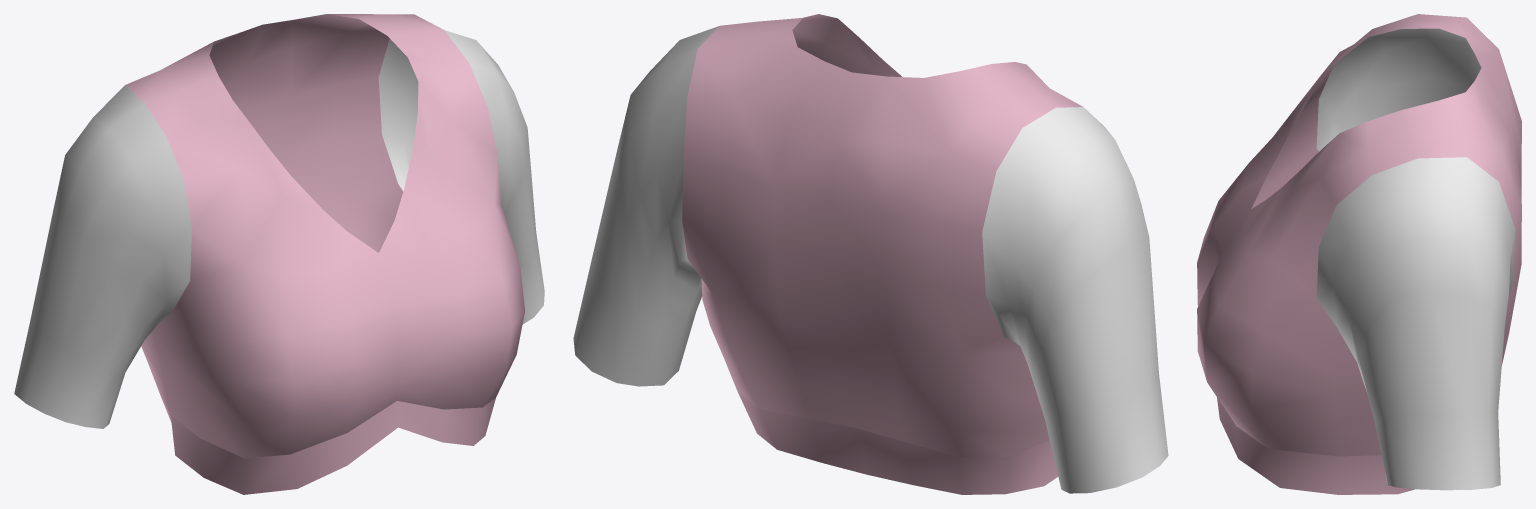
Rendered from blouse_22.glb.
The picture shows the model from 3 angles, left to right: view 1: azimuth 30°, elevation 25°; view 2: azimuth 150°, elevation 25°; view 3: azimuth 270°, elevation 25°; orthographic projection. The views are drawn at different scales.
Visible parts, largest first — view 1: blouse_22; view 2: blouse_22; view 3: blouse_22.
Boxes of the visible parts, box(x1,y1,x2,y2) form: blouse_22: box(14, 14, 544, 494); blouse_22: box(573, 14, 1168, 494); blouse_22: box(1197, 14, 1521, 494).
Bounding box in the file's own units: 0.4427 × 0.308 × 0.2466.
